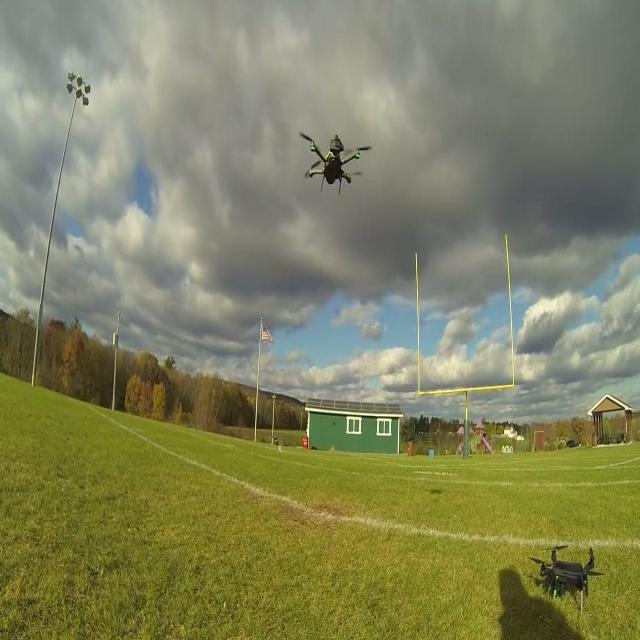drone: (299, 128, 370, 198), (527, 540, 603, 603)
